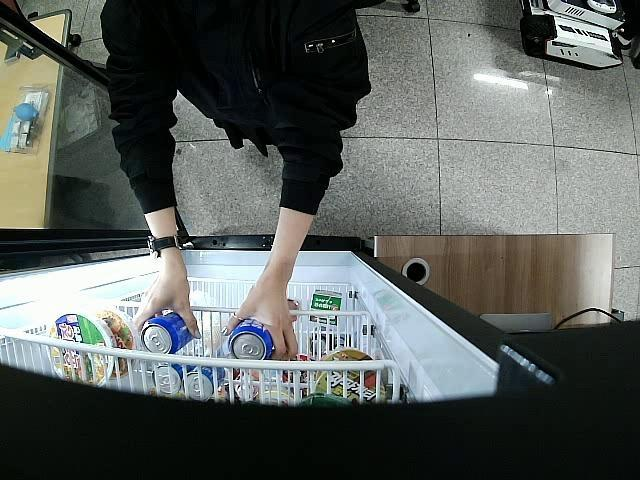13_pocariSweat: (140, 310, 192, 354), (227, 320, 273, 360)
